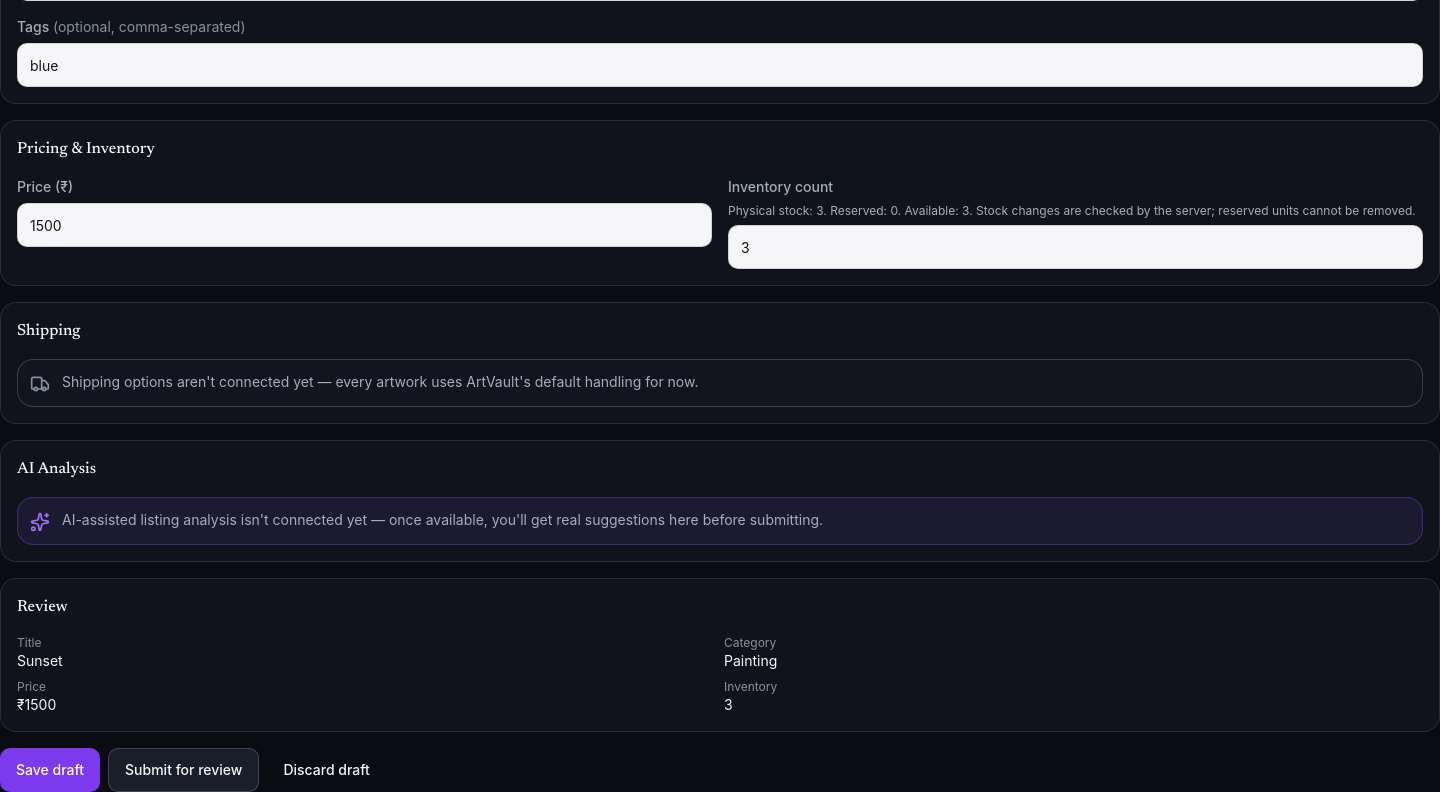
Test: ArtworkForm — edit mode (DRAFT) › does not discard when the confirmation dialog is cancelled
(page scrolled)
Click the button "Discard draft": click(327, 770) [268,748,386,791]
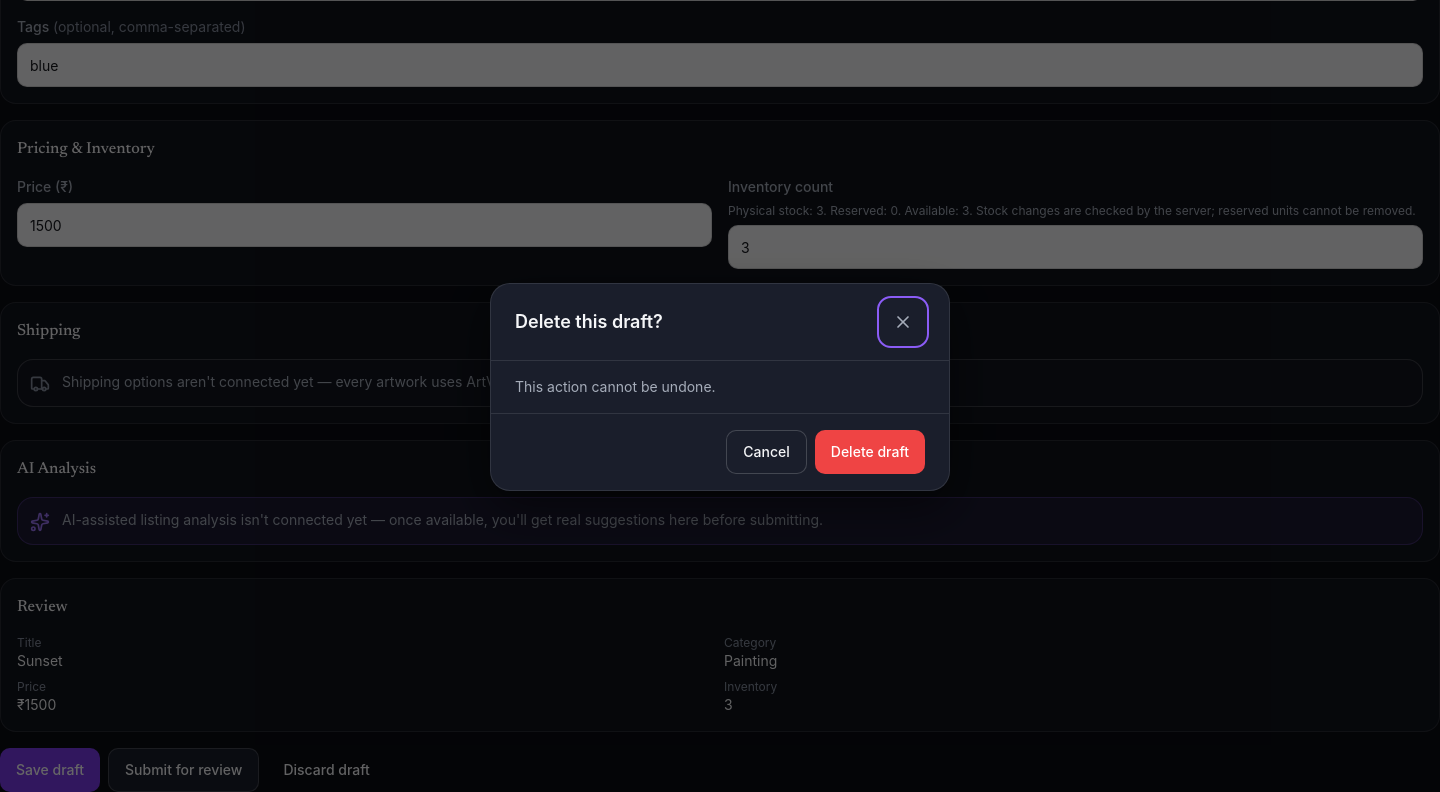
Check: the dialog "Delete this draft" is shown, box [490,283,950,491]
Click the button "Cancel": click(767, 452) [726,430,807,474]
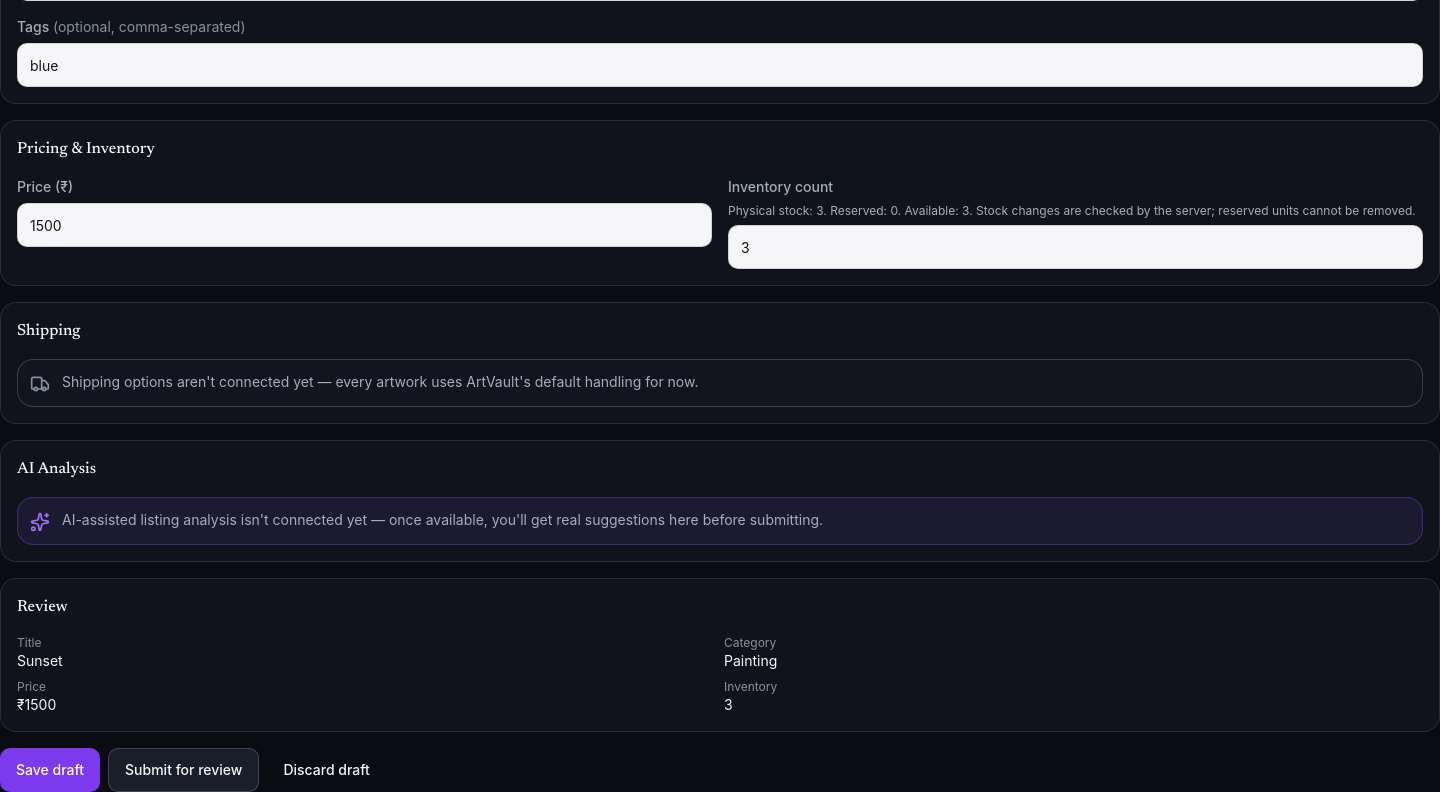
Check: the dialog is gone
